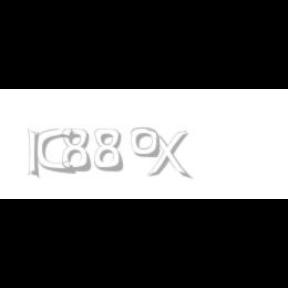8: (94, 128, 124, 172), (62, 128, 90, 172)
C: (36, 128, 74, 174)
X: (145, 128, 189, 180)
l: (27, 128, 43, 180)
o: (130, 128, 160, 158)
